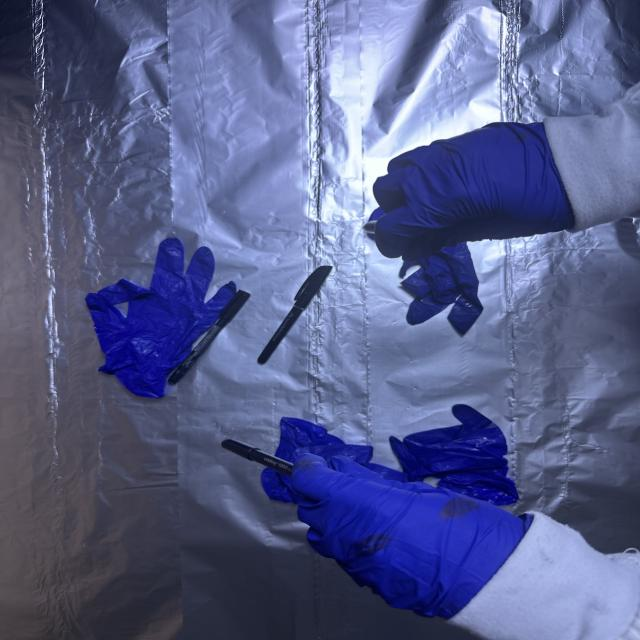gloves_contaminated: (285, 443, 525, 615), (374, 123, 575, 261)
